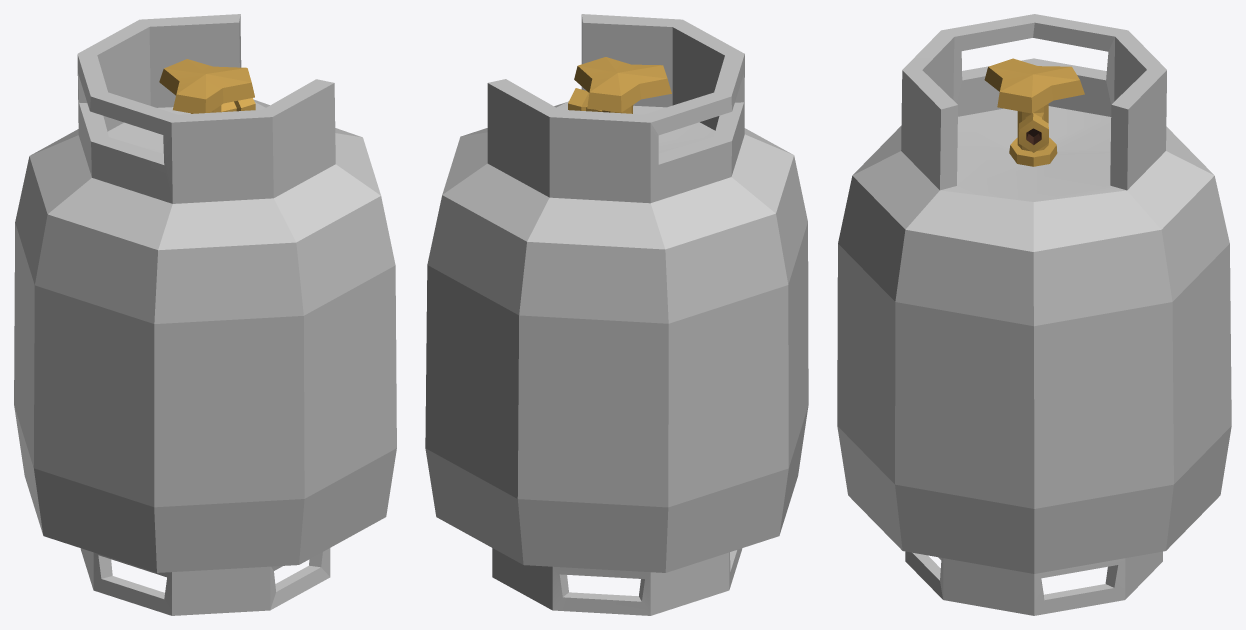
Rendered from SM_Prop_Propane_01_522.obj.
3 views of the same model, side by side, from view 1: azimuth 30°, elevation 25°; view 2: azimuth 150°, elevation 25°; view 3: azimuth 270°, elevation 25° (orthographic).
Parts seen in each view (by area): view 1: SM_Prop_Propane_01_0; view 2: SM_Prop_Propane_01_0; view 3: SM_Prop_Propane_01_0.
Part boxes in pixels (left/top/right/bottom): SM_Prop_Propane_01_0: left=14, top=14, right=396, bottom=615; SM_Prop_Propane_01_0: left=425, top=14, right=808, bottom=615; SM_Prop_Propane_01_0: left=837, top=14, right=1231, bottom=615.
Bounding box in the file's own units: 0.4532 × 0.6238 × 0.4532.
1 material, 1 textured.
